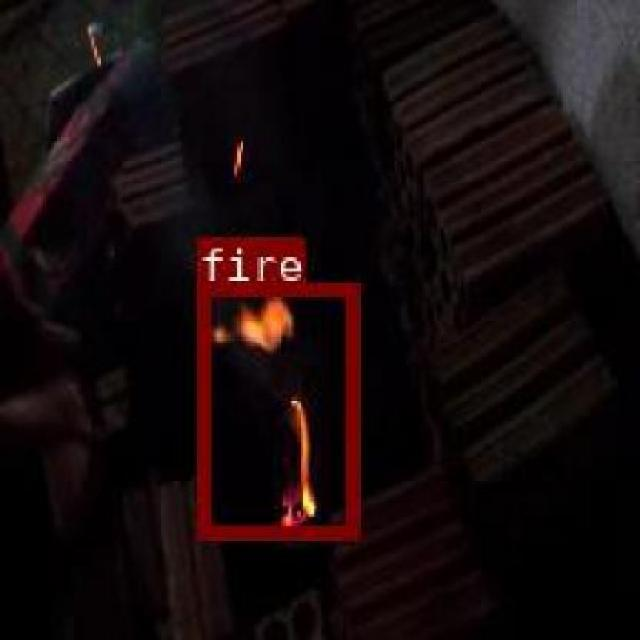fire: (196, 280, 357, 536)
